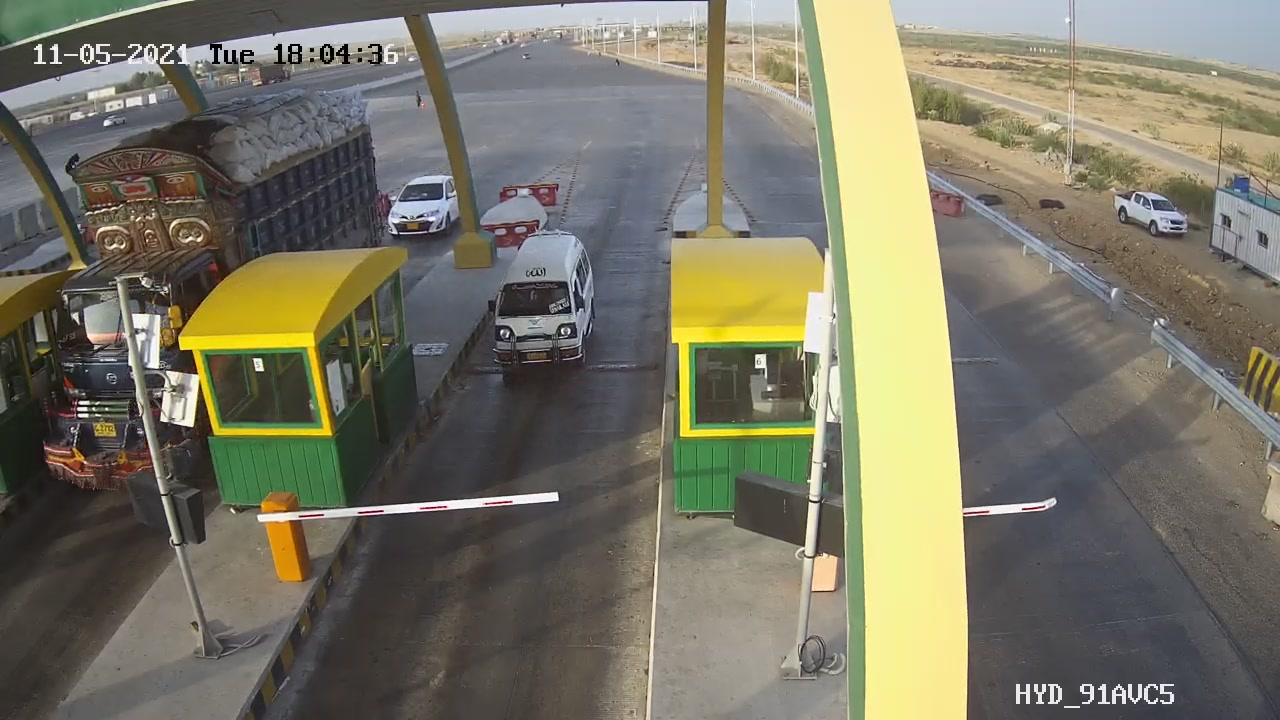F1: (466, 208, 621, 395)
